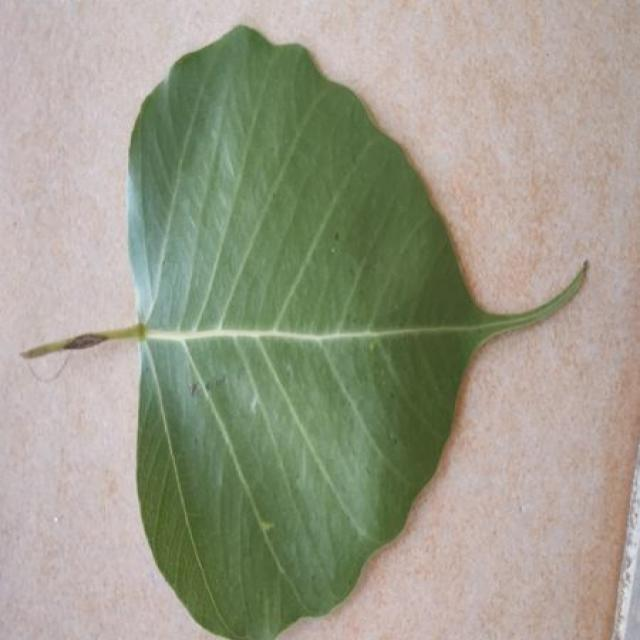arali: (22, 26, 587, 640), (23, 26, 585, 640)
